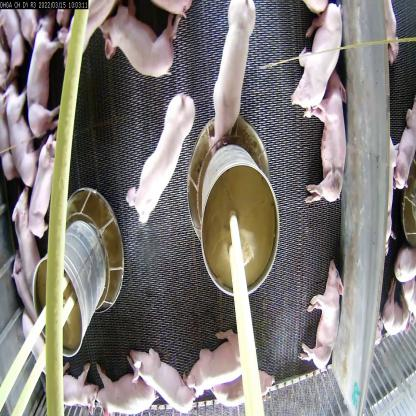Pig: (127, 92, 199, 228), (101, 5, 180, 85), (211, 0, 252, 143), (304, 76, 347, 211), (287, 1, 344, 93), (298, 257, 342, 370), (24, 21, 67, 131), (1, 91, 41, 197), (126, 339, 190, 403), (25, 138, 61, 235), (186, 333, 246, 390), (94, 368, 154, 415), (214, 366, 270, 416), (12, 193, 37, 276), (57, 365, 96, 415)
